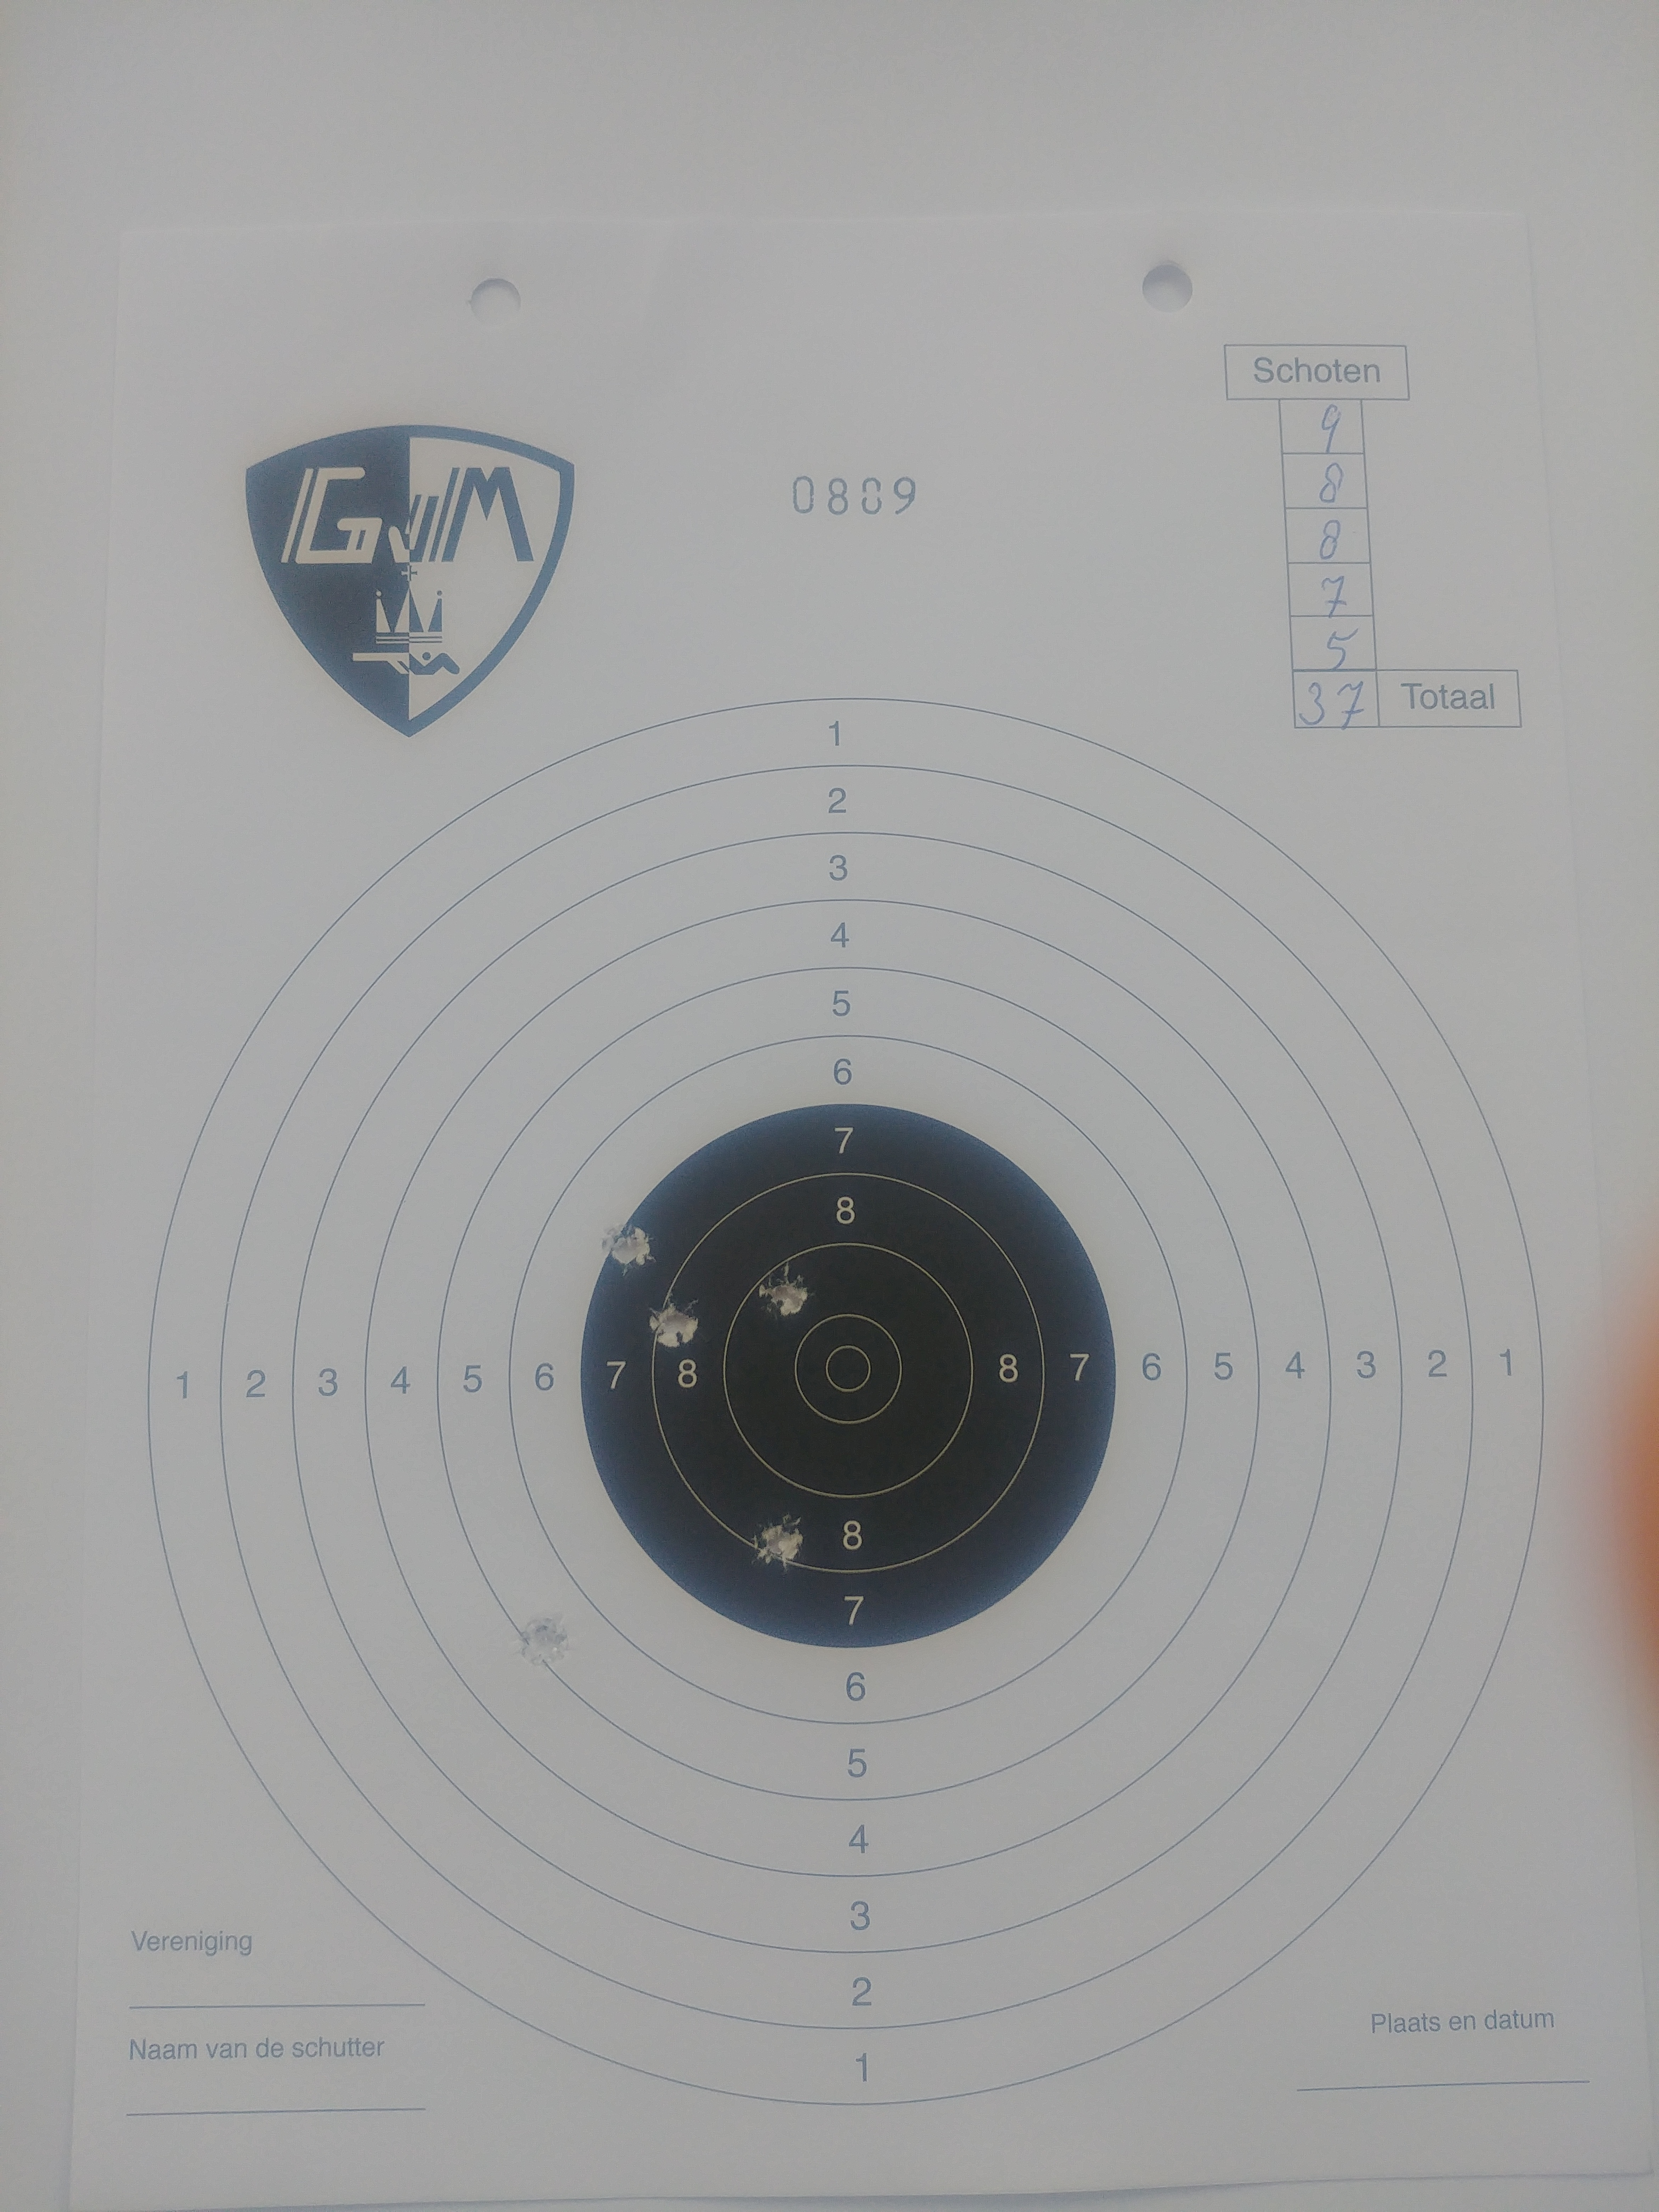center: (579, 1103, 1117, 1648)
out: (145, 697, 1547, 2107)
shot: (756, 1259, 816, 1322), (599, 1219, 659, 1278), (749, 1510, 805, 1573), (645, 1291, 701, 1348), (514, 1613, 573, 1667)
target: (793, 1312, 903, 1425)
